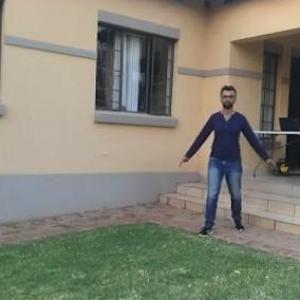land: (178, 88, 270, 234)
